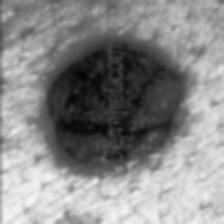Potentially Malignant Skin Tumors: (50, 54, 106, 158), (130, 45, 180, 157)
